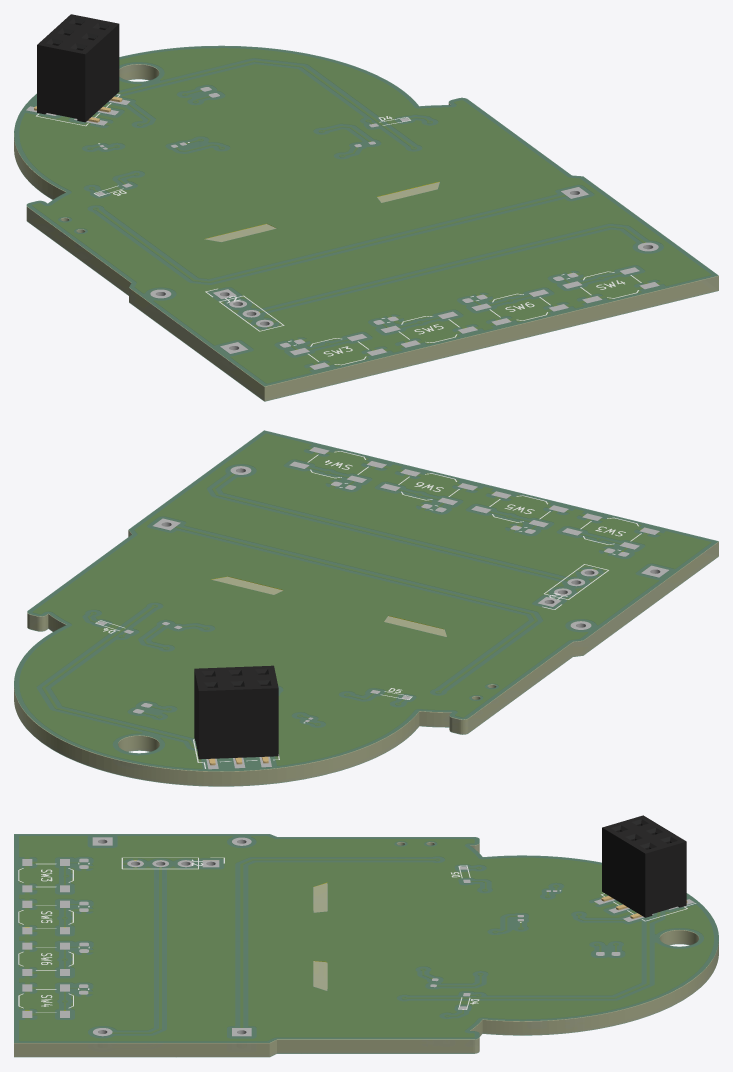
The model's file is bsides-san-diego-2025-badge.glb.
The picture shows the model from 3 angles, top to bottom: view 1: azimuth 30°, elevation 25°; view 2: azimuth 150°, elevation 25°; view 3: azimuth 270°, elevation 25°; orthographic projection. The views are drawn at different scales.
Parts seen in each view (by area): view 1: =>[0:1:1:7], =>[0:1:1:3]; view 2: =>[0:1:1:7], =>[0:1:1:3]; view 3: =>[0:1:1:7], =>[0:1:1:3].
Part boxes in pixels (left/top/right/bottom): =>[0:1:1:7]: left=14, top=45, right=718, bottom=401; =>[0:1:1:3]: left=20, top=14, right=710, bottom=382; =>[0:1:1:7]: left=14, top=430, right=718, bottom=786; =>[0:1:1:3]: left=20, top=434, right=710, bottom=769; =>[0:1:1:7]: left=14, top=834, right=718, bottom=1057; =>[0:1:1:3]: left=19, top=815, right=713, bottom=1040.
Bounding box in the file's own units: 0.0499 × 0.00914 × 0.0712.
Materials: 2 (2 with a texture image).
